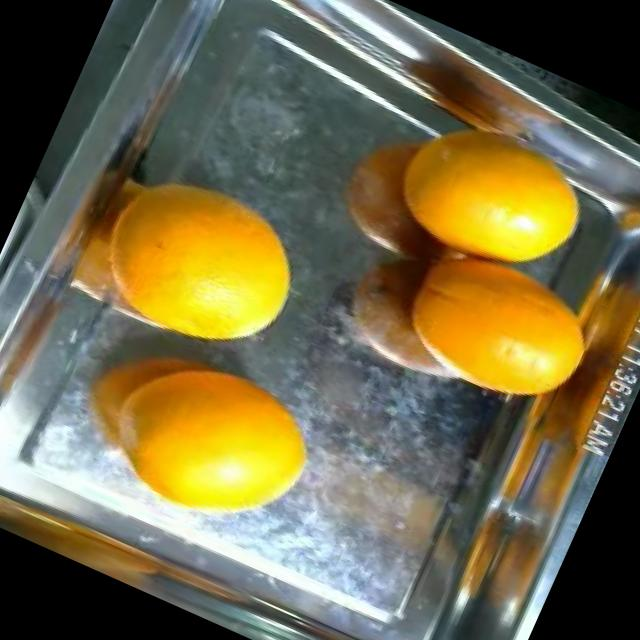Fruit: (99, 330, 348, 568), (93, 146, 333, 376), (372, 88, 622, 308)
